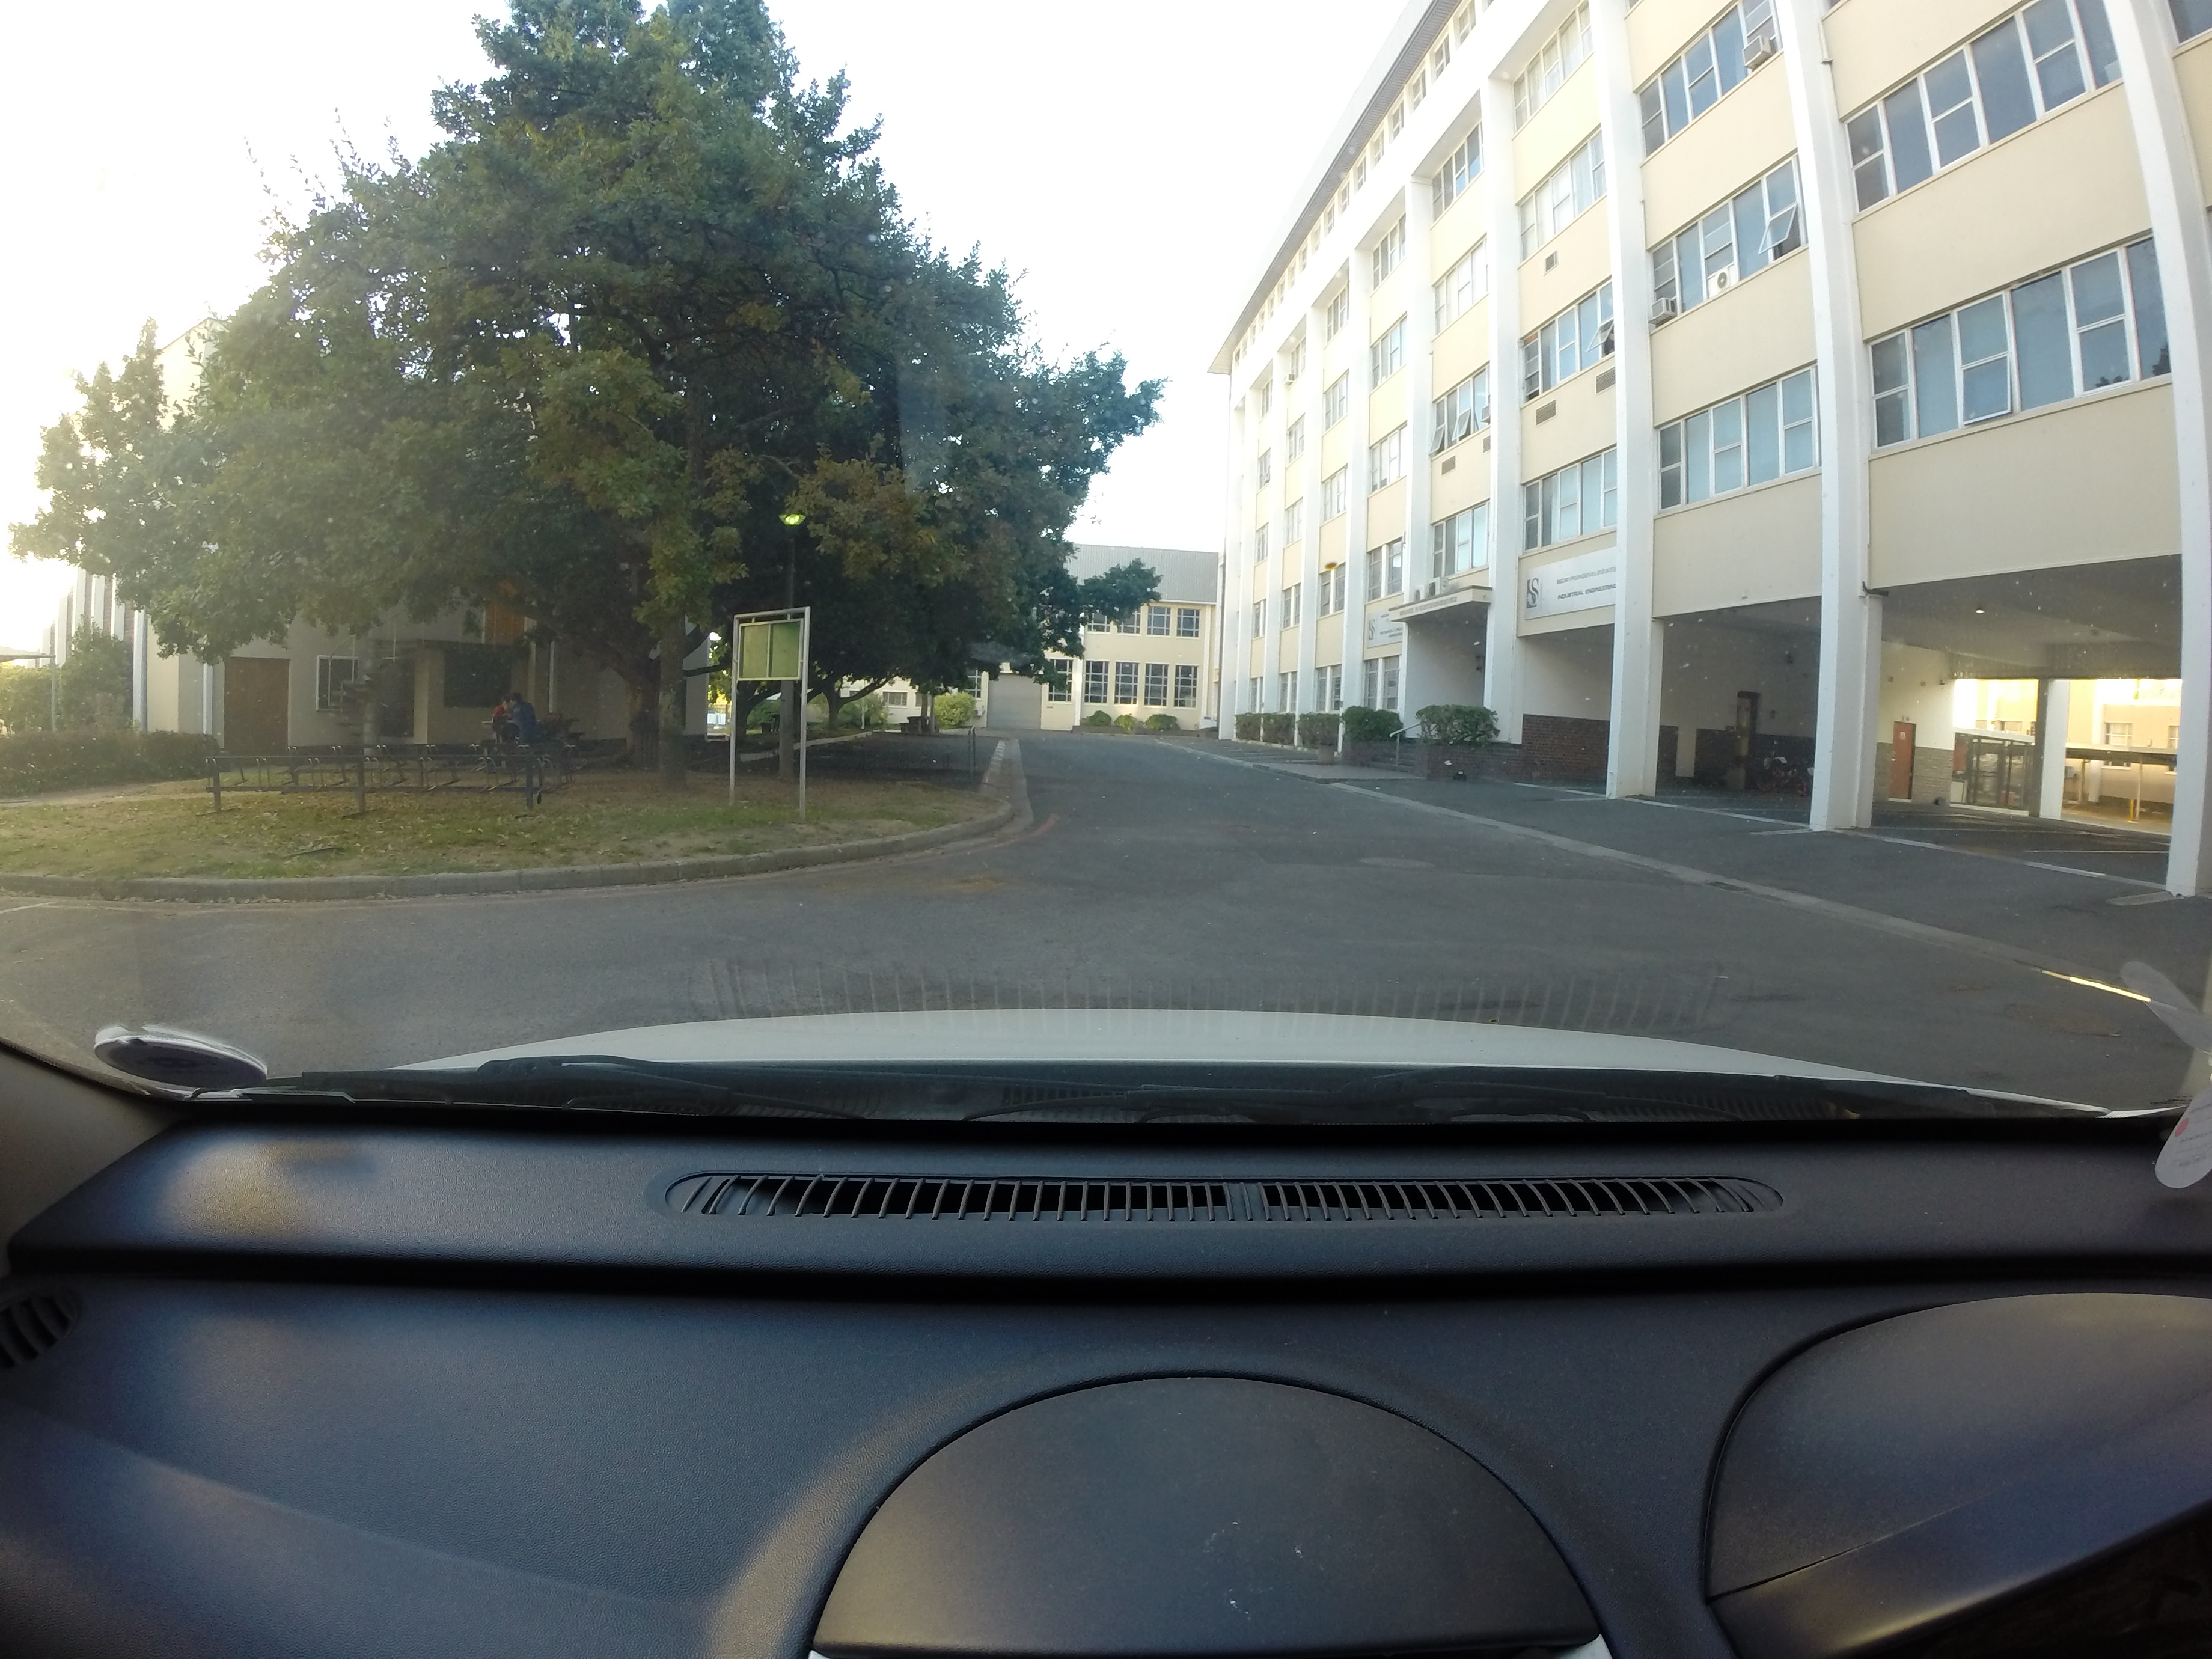pothole: (935, 863, 1019, 889)
